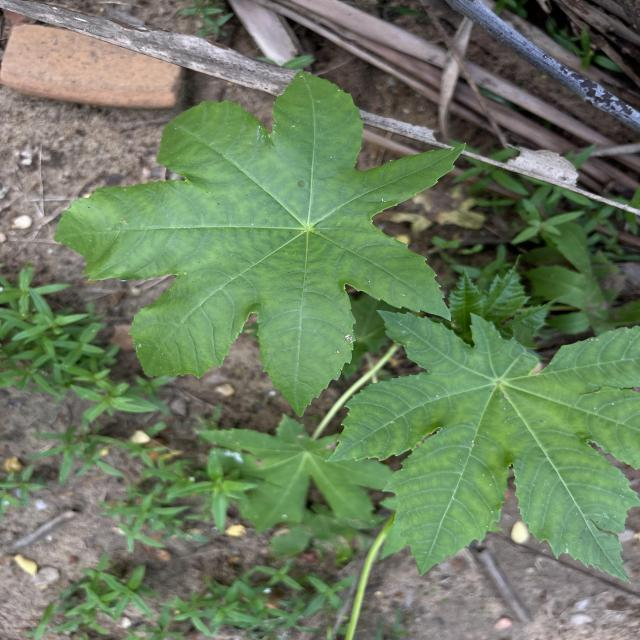Ricinus communis linn: (48, 66, 472, 424)
